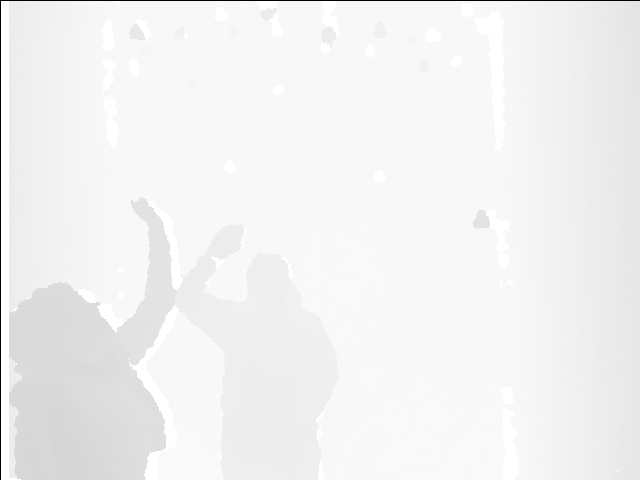hand: (129, 194, 169, 233), (207, 223, 246, 259)
